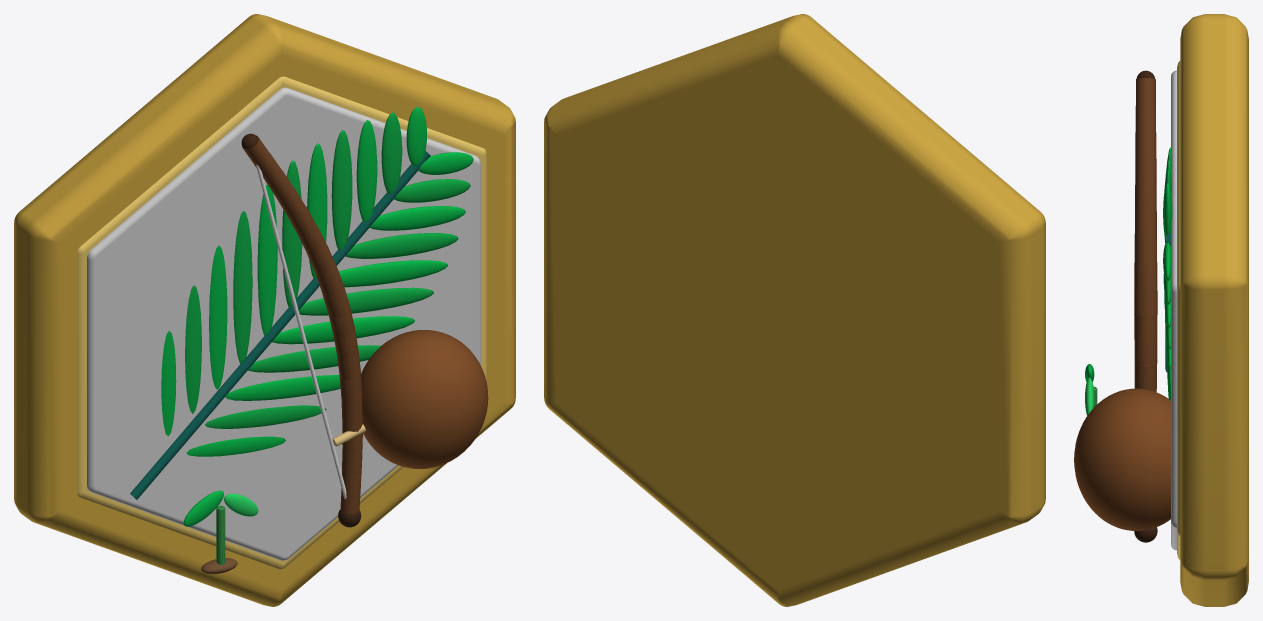
Rendered from cordao-01-iniciante.glb.
The picture shows the model from 3 angles, left to right: view 1: azimuth 30°, elevation 25°; view 2: azimuth 150°, elevation 25°; view 3: azimuth 270°, elevation 25°; orthographic projection.
Visible parts, largest first — view 1: Brasao 01 Iniciante; view 2: Brasao 01 Iniciante; view 3: Brasao 01 Iniciante.
Part boxes in pixels (x1=…): Brasao 01 Iniciante: x1=14, y1=14, x2=515, y2=606; Brasao 01 Iniciante: x1=544, y1=14, x2=1045, y2=606; Brasao 01 Iniciante: x1=1074, y1=14, x2=1248, y2=606.
Size of the model in its own units: 0.866 by 0.9924 by 0.2667.
